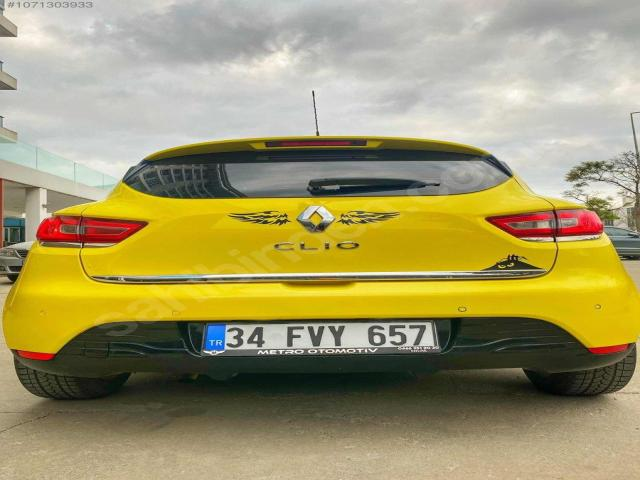plaka: (185, 320, 452, 356)
